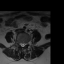CCS_stenosis: (22, 40, 24, 48)
LFS_normal: (25, 40, 27, 46)
LLS_normal: (24, 41, 25, 47)
RFS_normal: (18, 39, 20, 46)
RLS_normal: (20, 40, 22, 47)
